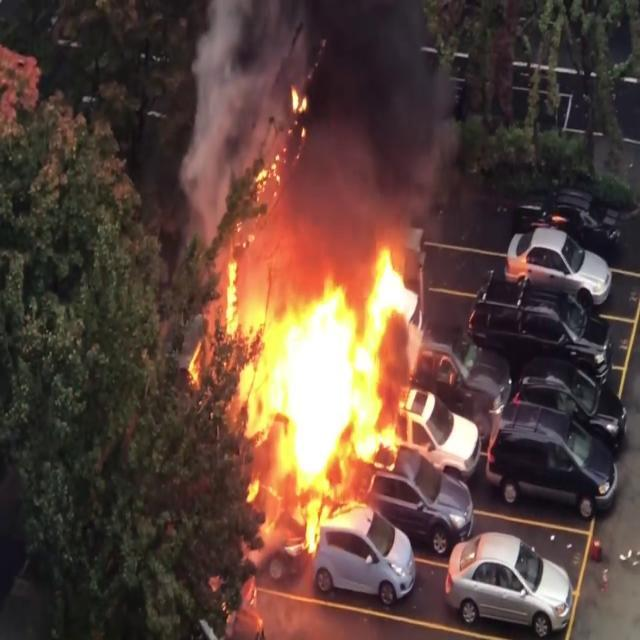Fire: (220, 236, 475, 506)
Smoke: (176, 0, 468, 262)
